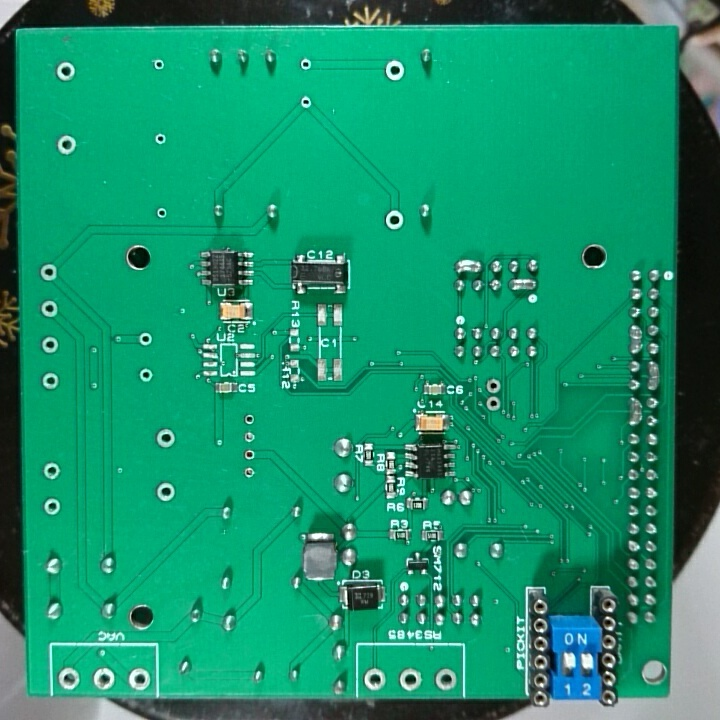F: (434, 664, 459, 694), (90, 665, 117, 692), (56, 664, 82, 692), (397, 666, 423, 692), (383, 206, 407, 234), (383, 58, 409, 83), (54, 134, 80, 159), (126, 666, 151, 692), (363, 666, 388, 692), (153, 480, 177, 506), (154, 425, 178, 450), (53, 60, 77, 84), (40, 495, 64, 519), (39, 261, 62, 286), (39, 335, 62, 356), (41, 460, 62, 483), (39, 298, 60, 320), (39, 371, 60, 392), (485, 376, 504, 395), (149, 56, 168, 74), (151, 130, 169, 149), (137, 330, 155, 349), (137, 366, 155, 385), (297, 55, 314, 74), (297, 92, 314, 110), (484, 395, 502, 412), (153, 205, 170, 222), (240, 429, 257, 446), (240, 465, 258, 480), (241, 447, 257, 463), (242, 411, 259, 426)
P: (453, 255, 484, 277), (627, 321, 644, 357), (645, 359, 662, 395), (627, 395, 645, 428), (507, 276, 539, 294)
